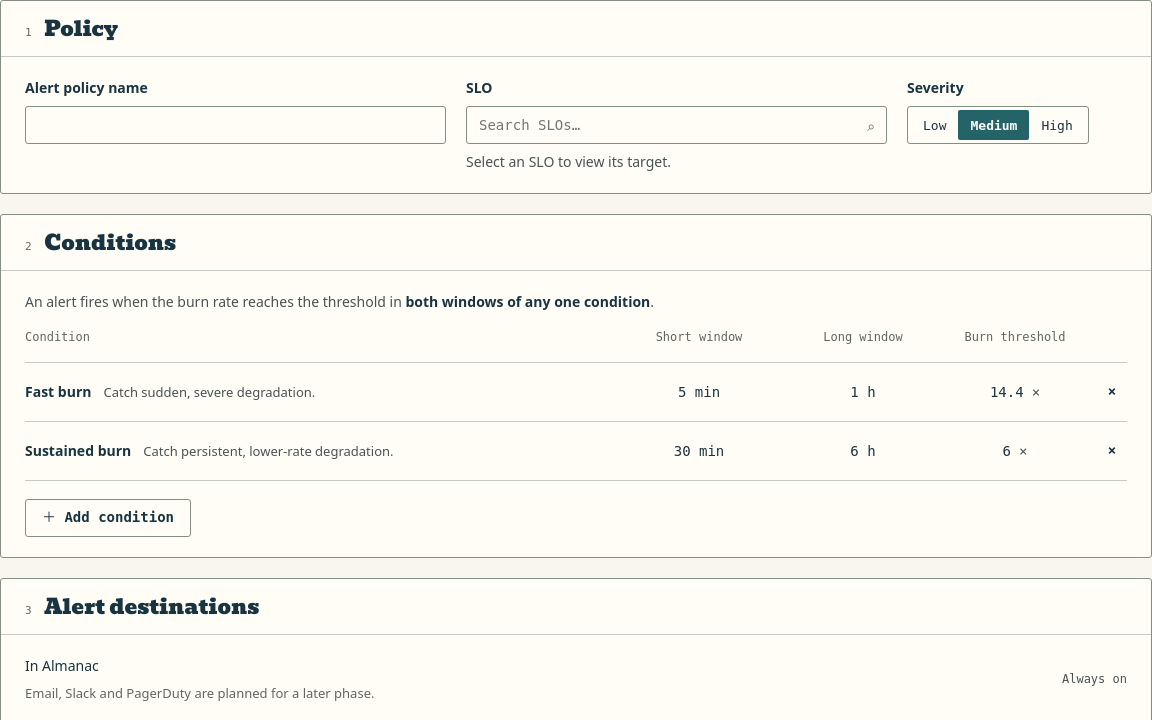
Test: approved alert policy form › retains the original unit through each keystroke of a bare duration
The width and height of the screenshot is (1152, 720).
Click the button named "Edit long window for Fast burn": (863, 392) [791,373,935,411]
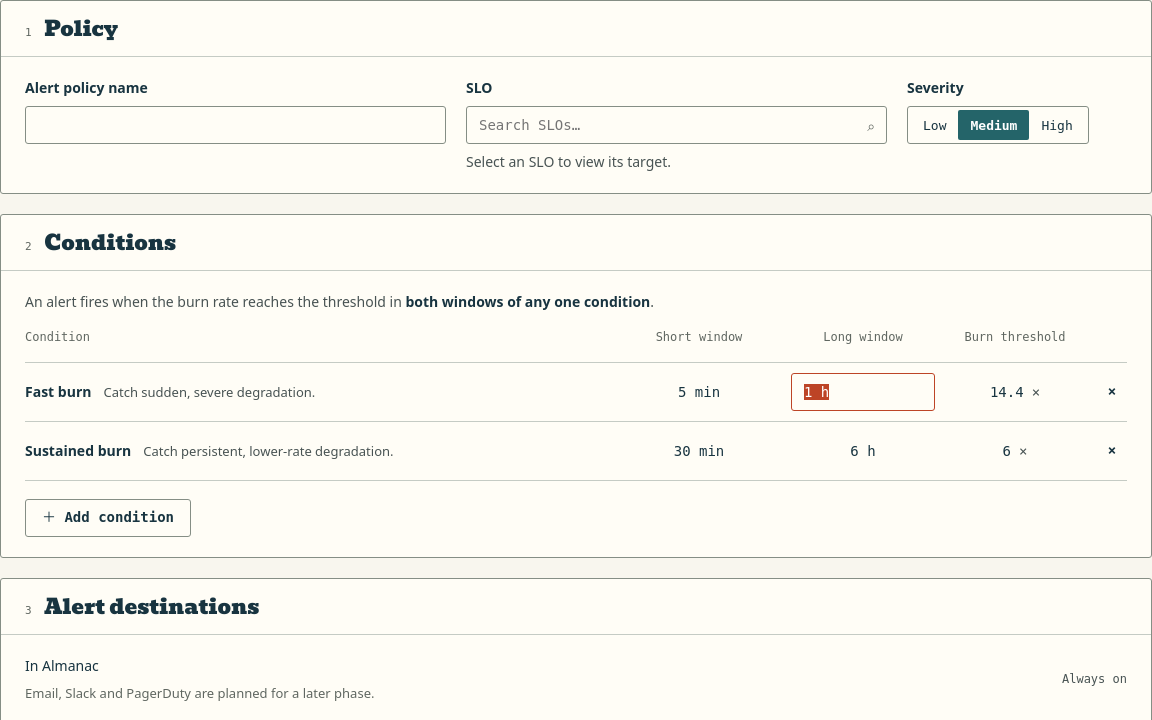
Replace the text in the field named "Long window for Fast burn" with "240": (863, 392) [804,374,922,410]
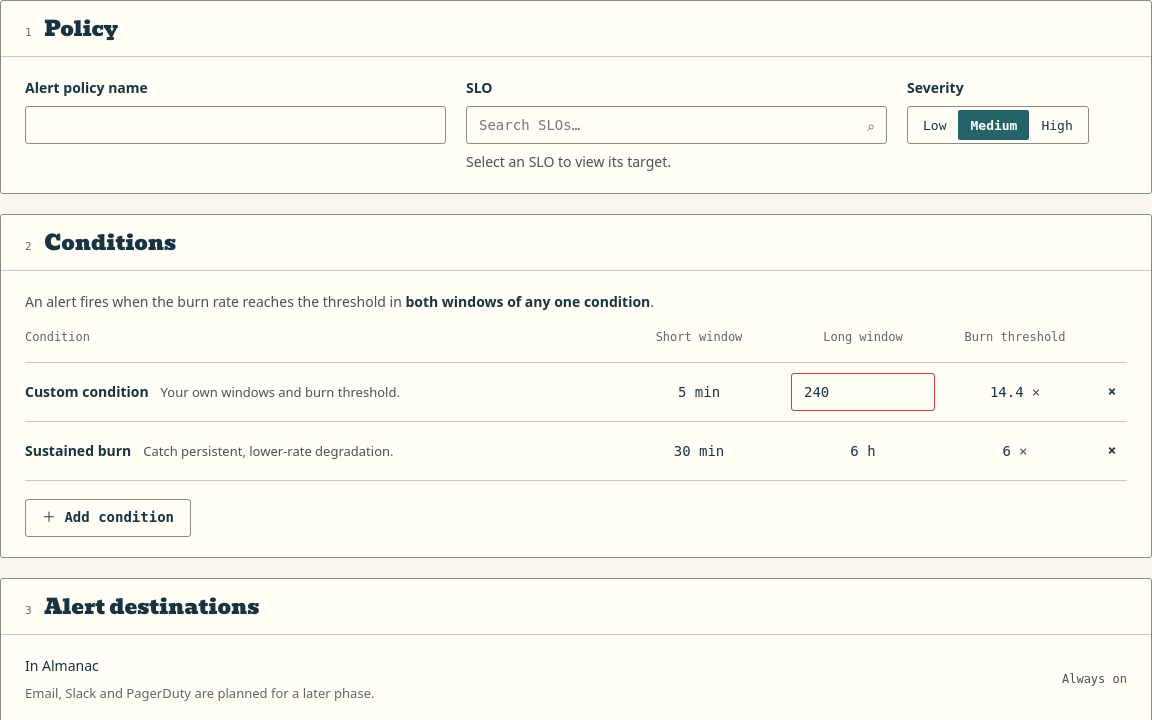
Press Enter
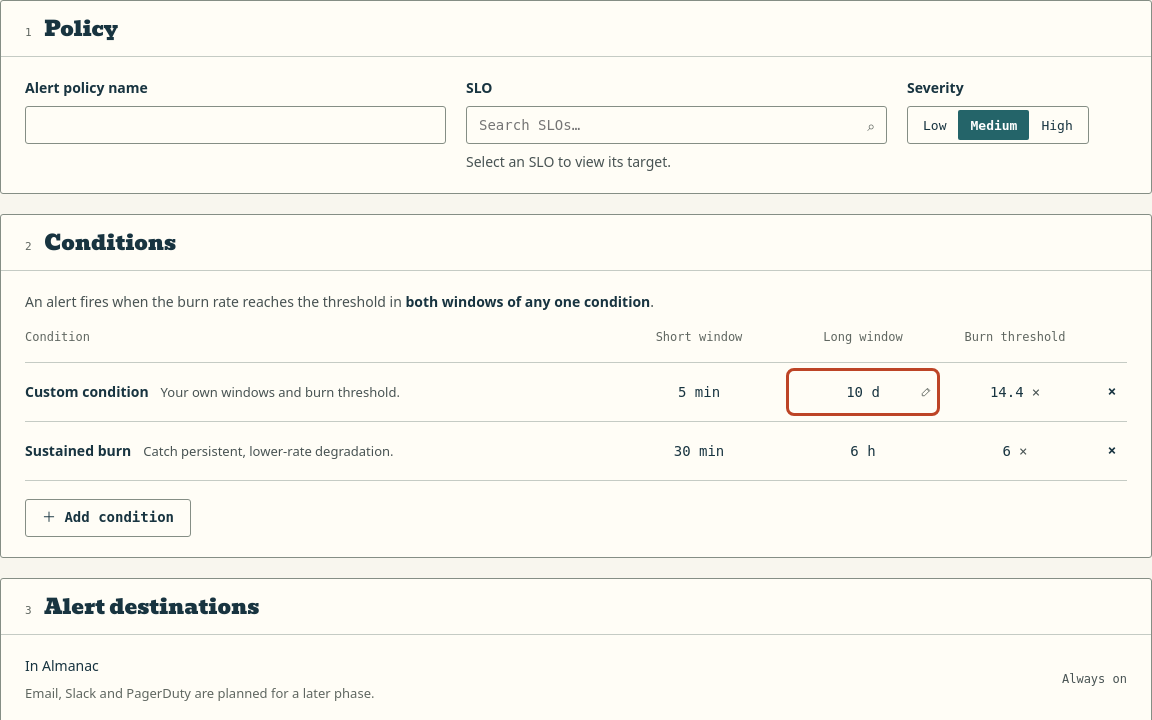
Now the button named "Edit long window for Custom condition" reads "10 d", box [791,373,935,411]
